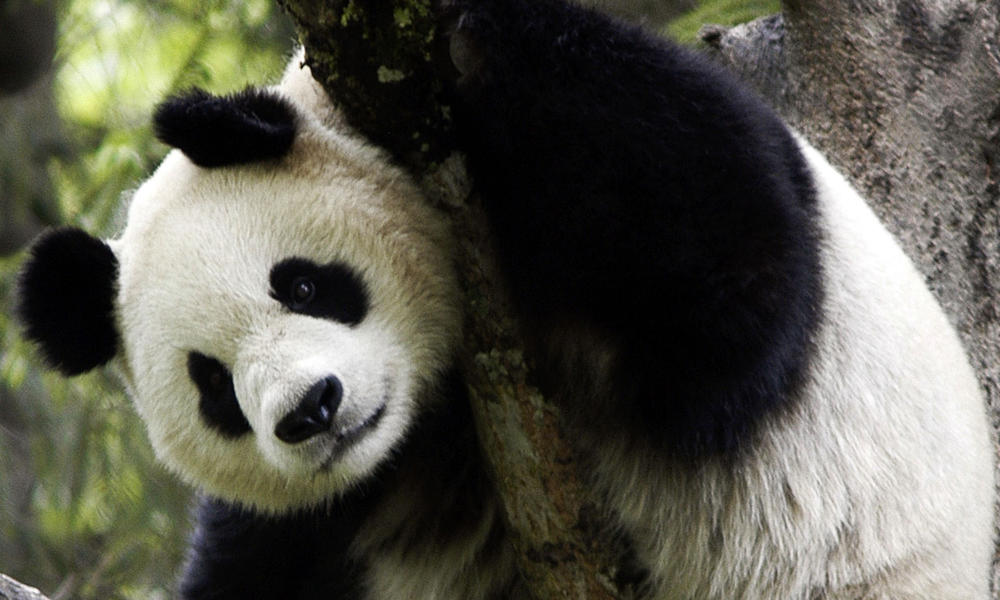panda: (39, 31, 984, 600)
